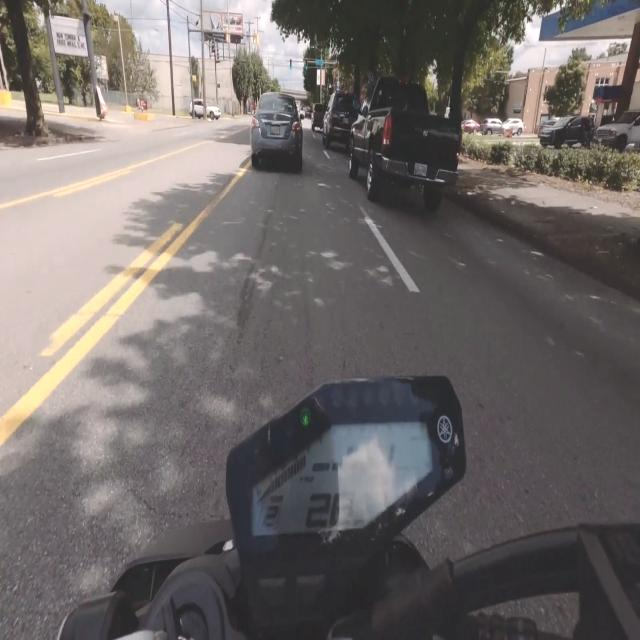car: (346, 74, 466, 214), (251, 92, 302, 171), (323, 92, 359, 148), (311, 103, 326, 130), (189, 99, 204, 117)
motorcycle: (59, 378, 639, 639)
